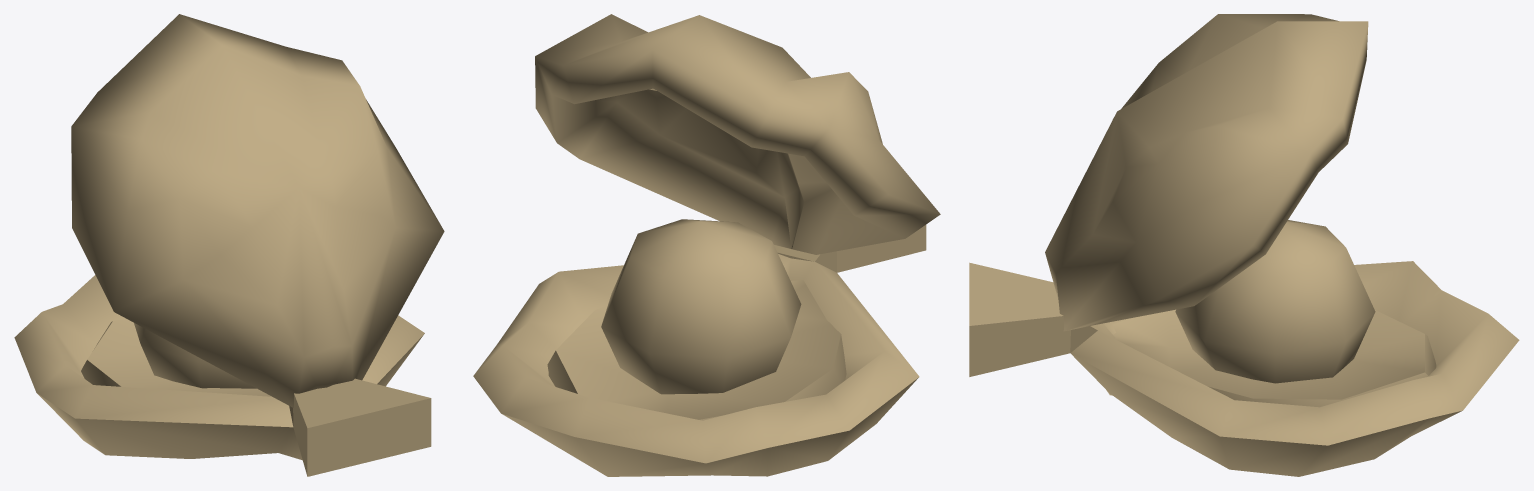
File: clam_low.fbx
3 renders of one model, left to right at view 1: azimuth 30°, elevation 25°; view 2: azimuth 150°, elevation 25°; view 3: azimuth 270°, elevation 25°, orthographic. The views are drawn at different scales.
Parts seen in each view (by area): view 1: test1_low, test2_low, test3_low, test4_low, test5_low; view 2: test1_low, test2_low, test5_low, test4_low, test3_low; view 3: test1_low, test2_low, test5_low, test4_low, test3_low.
Part boxes in pixels (x1,y1,x2,y2): test1_low: (71,14,444,407); test2_low: (14,275,424,460); test3_low: (289,378,431,476); test4_low: (81,319,271,396); test5_low: (134,323,256,388); test1_low: (535,14,940,254); test2_low: (473,254,919,476); test5_low: (601,219,801,394); test4_low: (547,280,846,420); test3_low: (774,225,926,272); test1_low: (1045,14,1368,331); test2_low: (1070,261,1519,476); test5_low: (1175,220,1375,383); test4_low: (1112,309,1436,407); test3_low: (969,262,1097,376).
Size of the model in its own units: 59.91 by 62.43 by 77.68.
